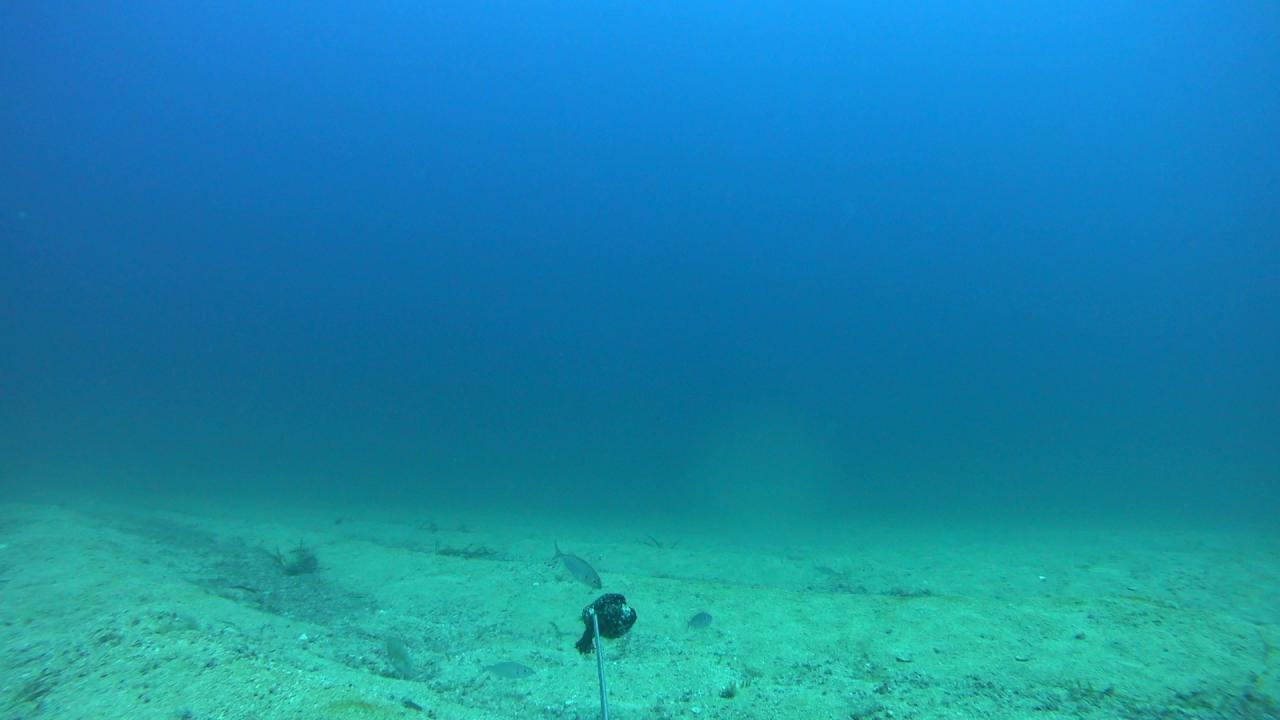pagellus: (552, 540, 603, 589), (474, 658, 534, 680), (682, 611, 712, 635)
